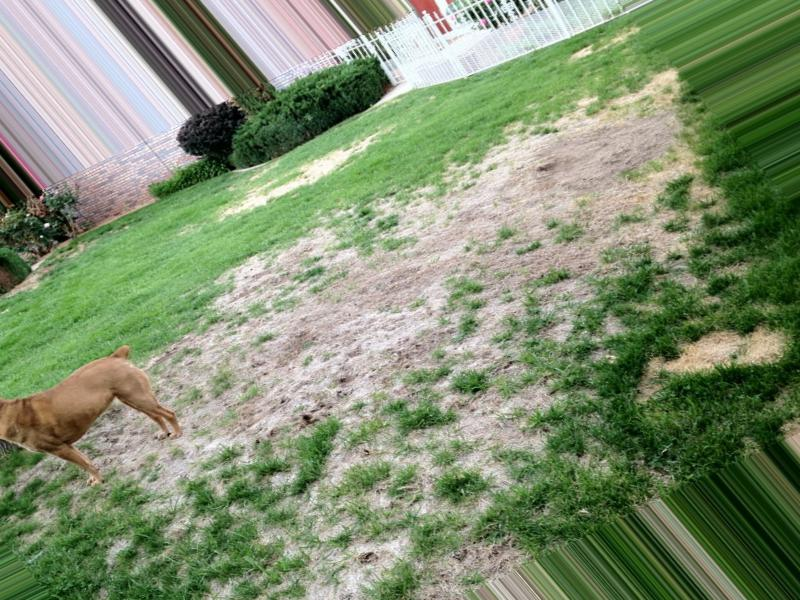patch: (227, 291, 351, 370), (370, 403, 511, 461), (354, 239, 458, 297), (167, 386, 279, 436), (458, 178, 570, 219), (308, 150, 395, 191), (587, 143, 670, 182), (228, 193, 319, 218), (398, 201, 440, 233), (51, 395, 82, 422)
